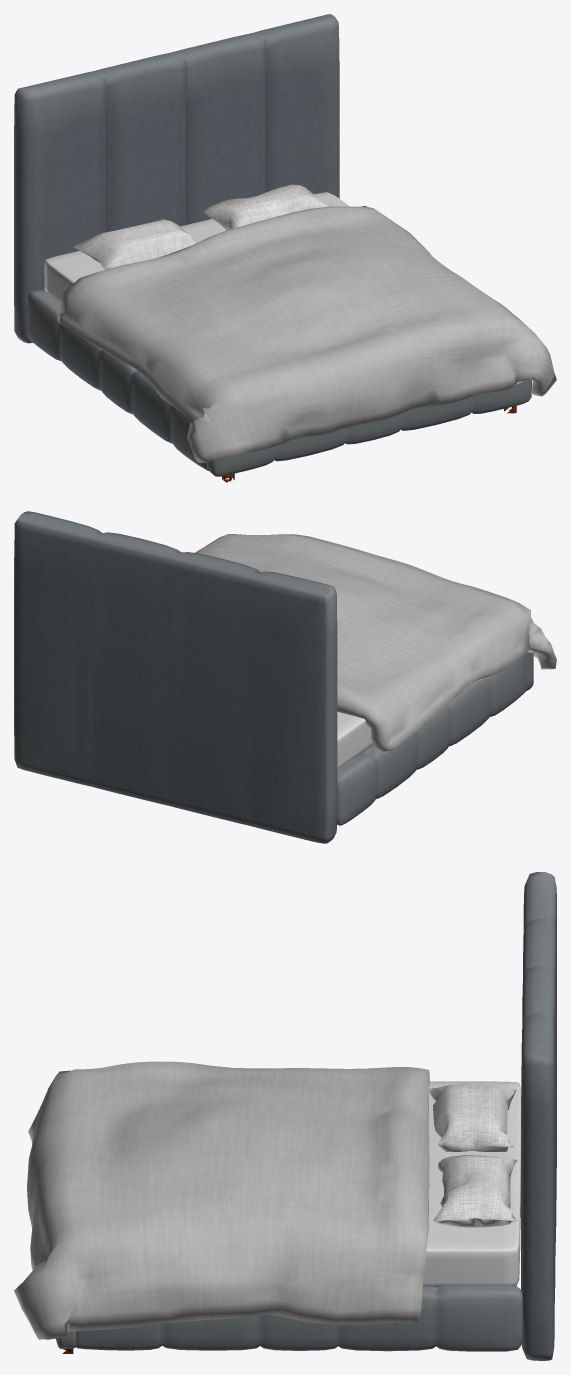
File: bed-15.glb
3 views of the same model, one above another, from view 1: azimuth 30°, elevation 25°; view 2: azimuth 150°, elevation 25°; view 3: azimuth 270°, elevation 25° (orthographic). The views are drawn at different scales.
Parts seen in each view (by area): view 1: Duvet, Bed, Pillows, Matress; view 2: Bed, Duvet, Matress; view 3: Duvet, Bed, Pillows, Matress.
Boxes of the visible parts, bbox=[...] form: Duvet: bbox=[57, 206, 556, 462]; Bed: bbox=[14, 14, 531, 476]; Pillows: bbox=[73, 184, 331, 269]; Matress: bbox=[44, 192, 349, 302]; Bed: bbox=[14, 511, 533, 843]; Duvet: bbox=[195, 534, 556, 752]; Matress: bbox=[337, 712, 372, 768]; Duvet: bbox=[14, 1061, 429, 1339]; Bed: bbox=[56, 872, 556, 1360]; Pillows: bbox=[429, 1083, 517, 1227]; Matress: bbox=[423, 1081, 521, 1287].
Size of the model in its own units: 11.17 by 7.44 by 11.97.
Materials: 5 (5 with a texture image).
